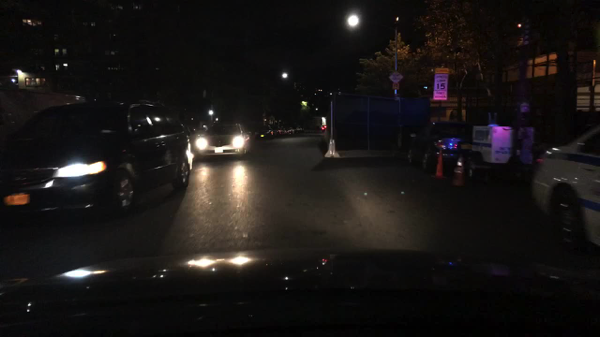car: (0, 97, 193, 220), (529, 122, 600, 254), (404, 120, 473, 175), (194, 121, 251, 162), (255, 127, 273, 139), (270, 124, 286, 136), (283, 125, 295, 135), (291, 124, 303, 133), (320, 124, 328, 131)
traffic sign: (435, 68, 448, 100), (389, 69, 402, 82), (392, 84, 398, 89)
